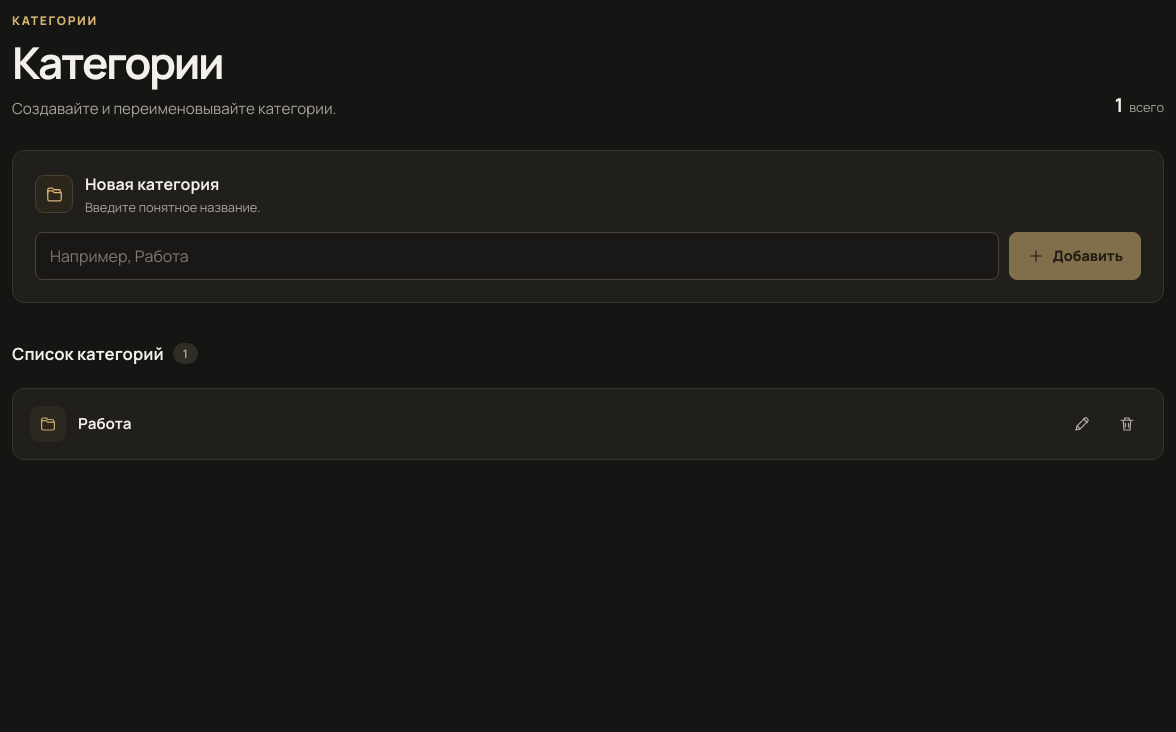
Scenario: Categories › updates only the category name and accepts a response containing id and name
Check: the heading "Работа" is shown, box [78, 413, 131, 434]
Click the button named "Изменить категорию: Работа".
click(1082, 424)  # box [1063, 405, 1101, 443]
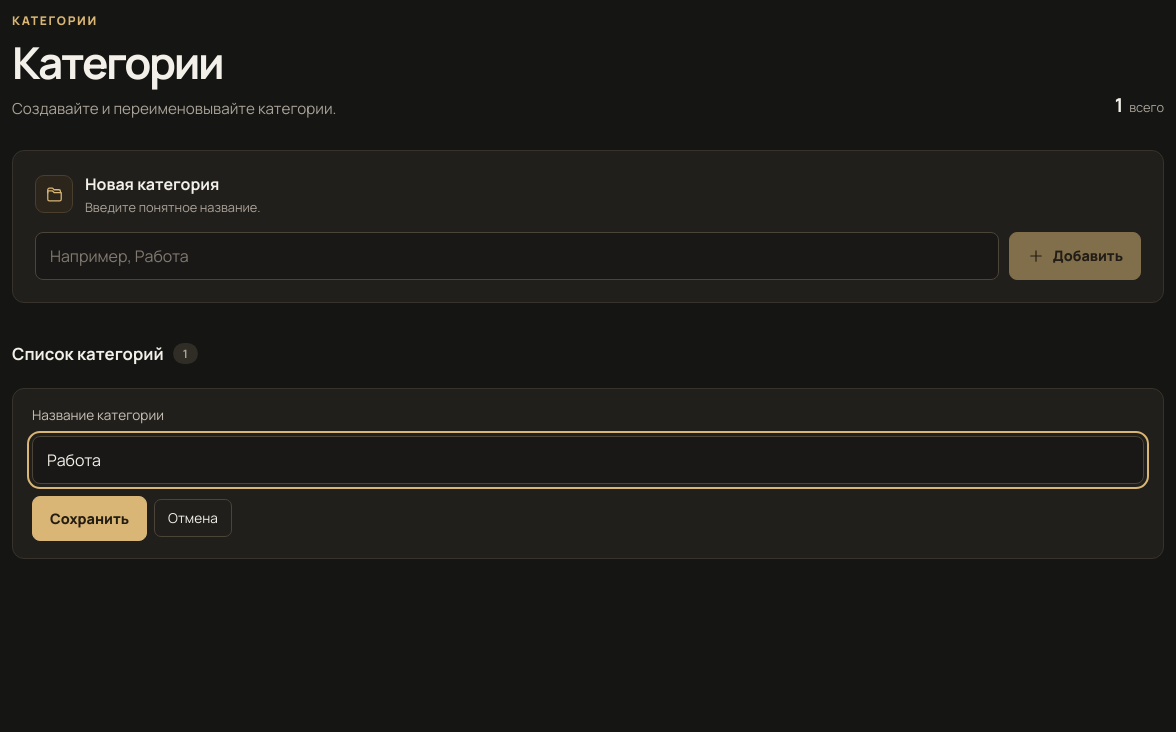
Replace the text in the field labelled "Название категории" with "  Проект  " at (588, 460), box [32, 436, 1144, 484]
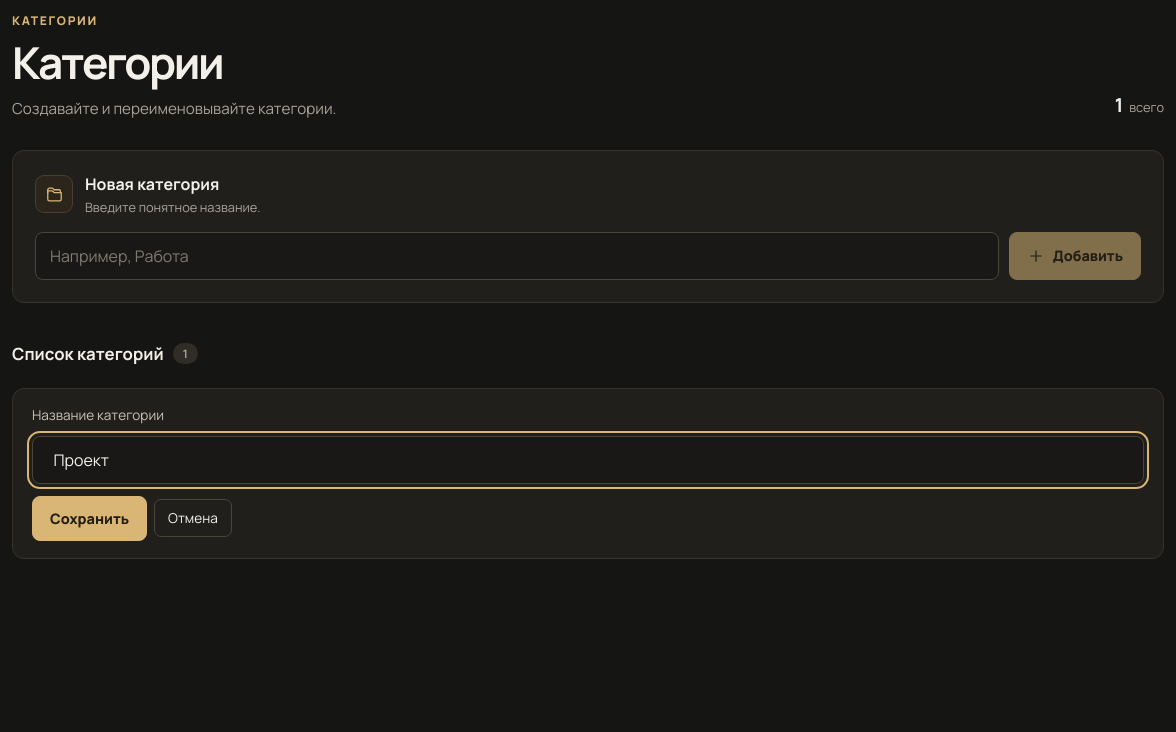
Click the button "Сохранить".
click(90, 518)  # box [32, 496, 147, 541]
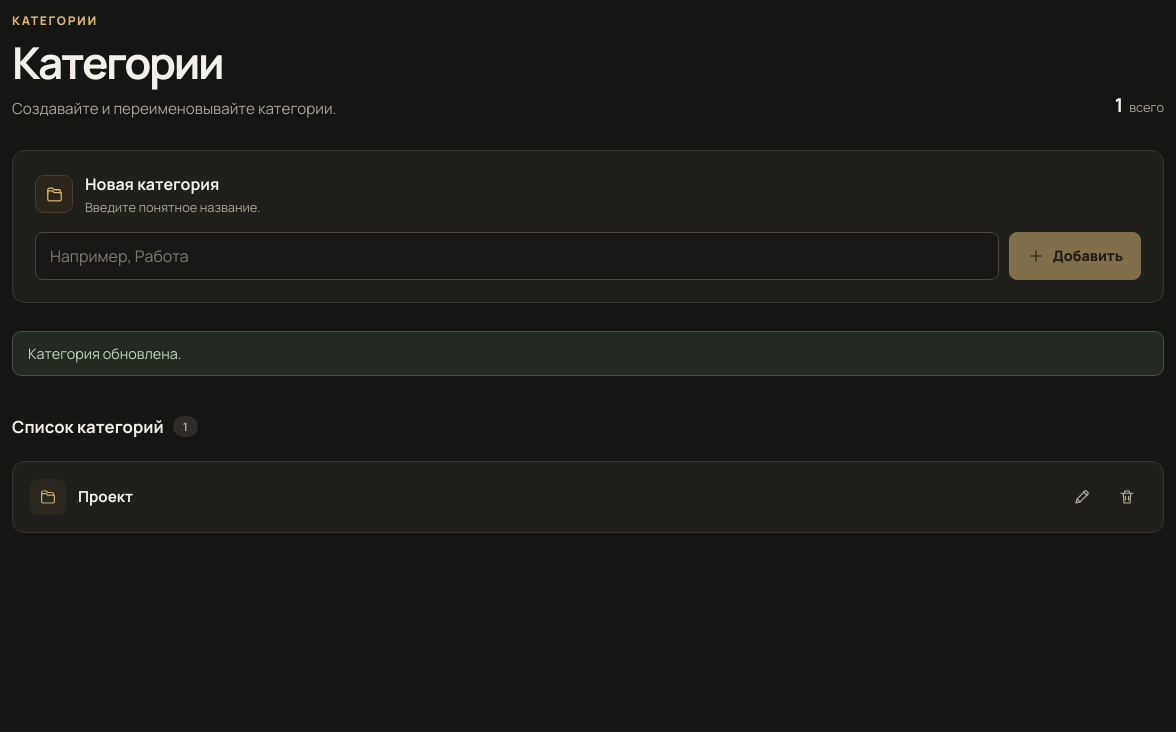
Check: the heading "Проект" is shown, box [78, 486, 133, 507]
Check: the message reads "Категория обновлена.", box [28, 344, 181, 363]
